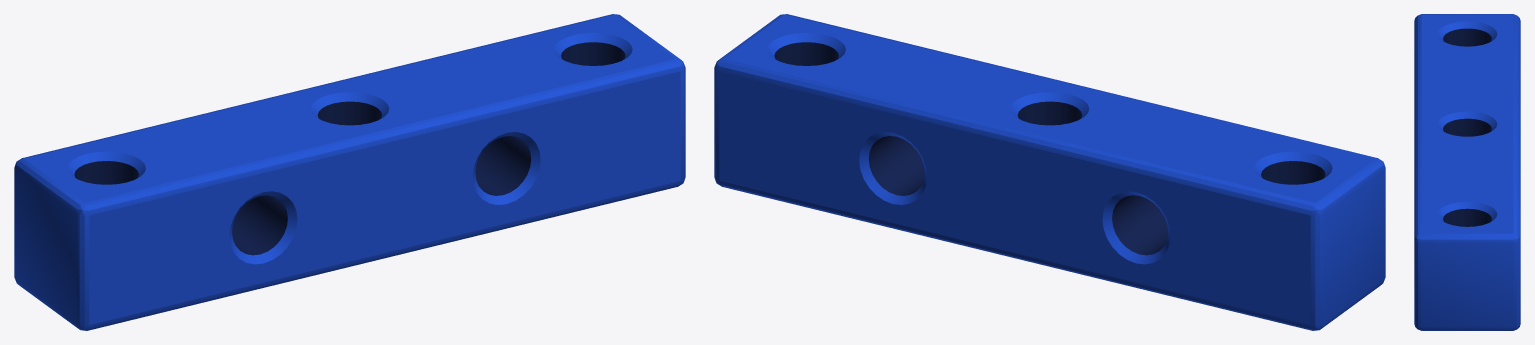
Rendered from viga-5.glb.
3 views of the same model, side by side, from view 1: azimuth 30°, elevation 25°; view 2: azimuth 150°, elevation 25°; view 3: azimuth 270°, elevation 25° (orthographic). The views are drawn at different scales.
Visible parts, largest first — view 1: geometry_0, geometry_1; view 2: geometry_0, geometry_1; view 3: geometry_0, geometry_1.
Boxes of the visible parts, x1,y1,x2,y2 form: geometry_0: (14,14,685,330); geometry_1: (74,42,625,255); geometry_0: (714,14,1385,330); geometry_1: (774,42,1325,255); geometry_0: (1414,14,1520,330); geometry_1: (1443,28,1491,226).
Size of the model in its own units: 0.05 by 0.01 by 0.01.
